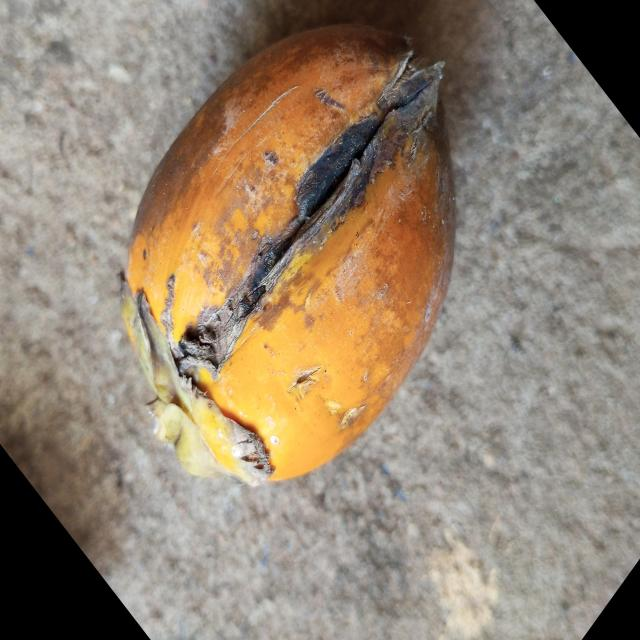damaged: (121, 24, 457, 489)
